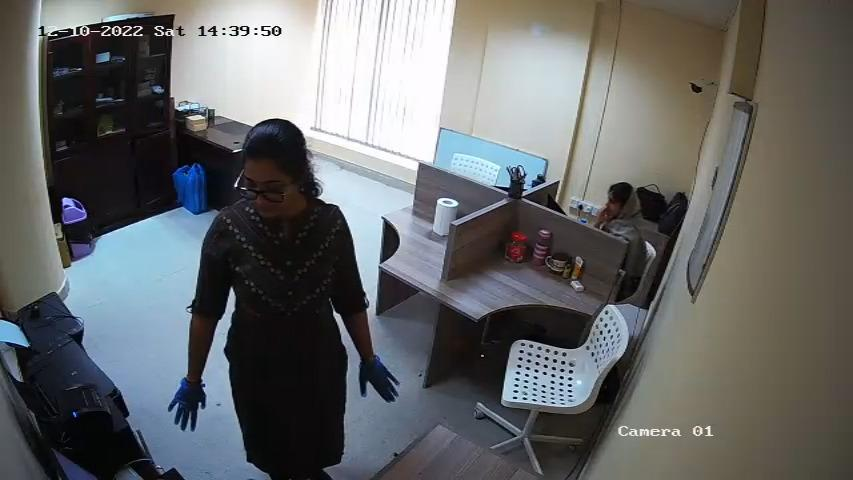gloves: (163, 374, 213, 430), (356, 352, 405, 408)
